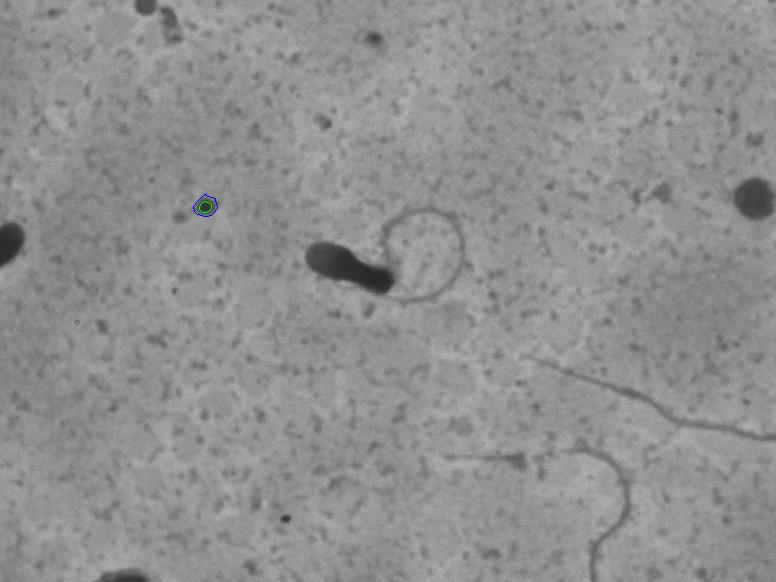Abnormal: (284, 179, 488, 334)
